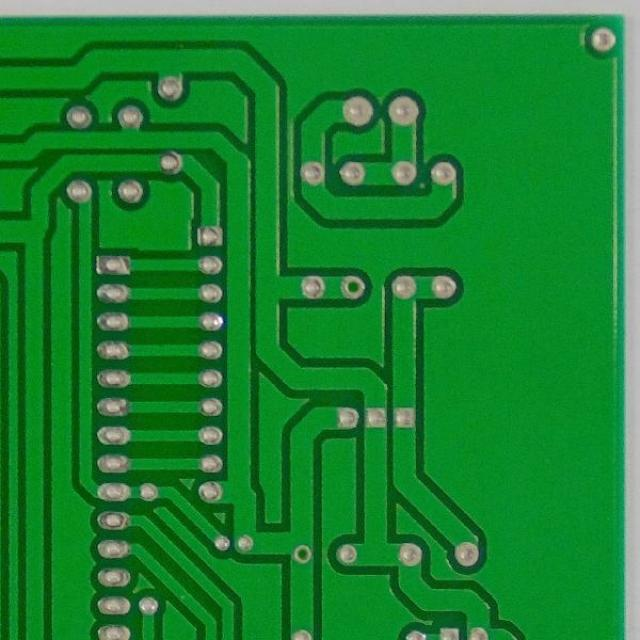missing_hole: (339, 271, 368, 302), (292, 541, 315, 567)
